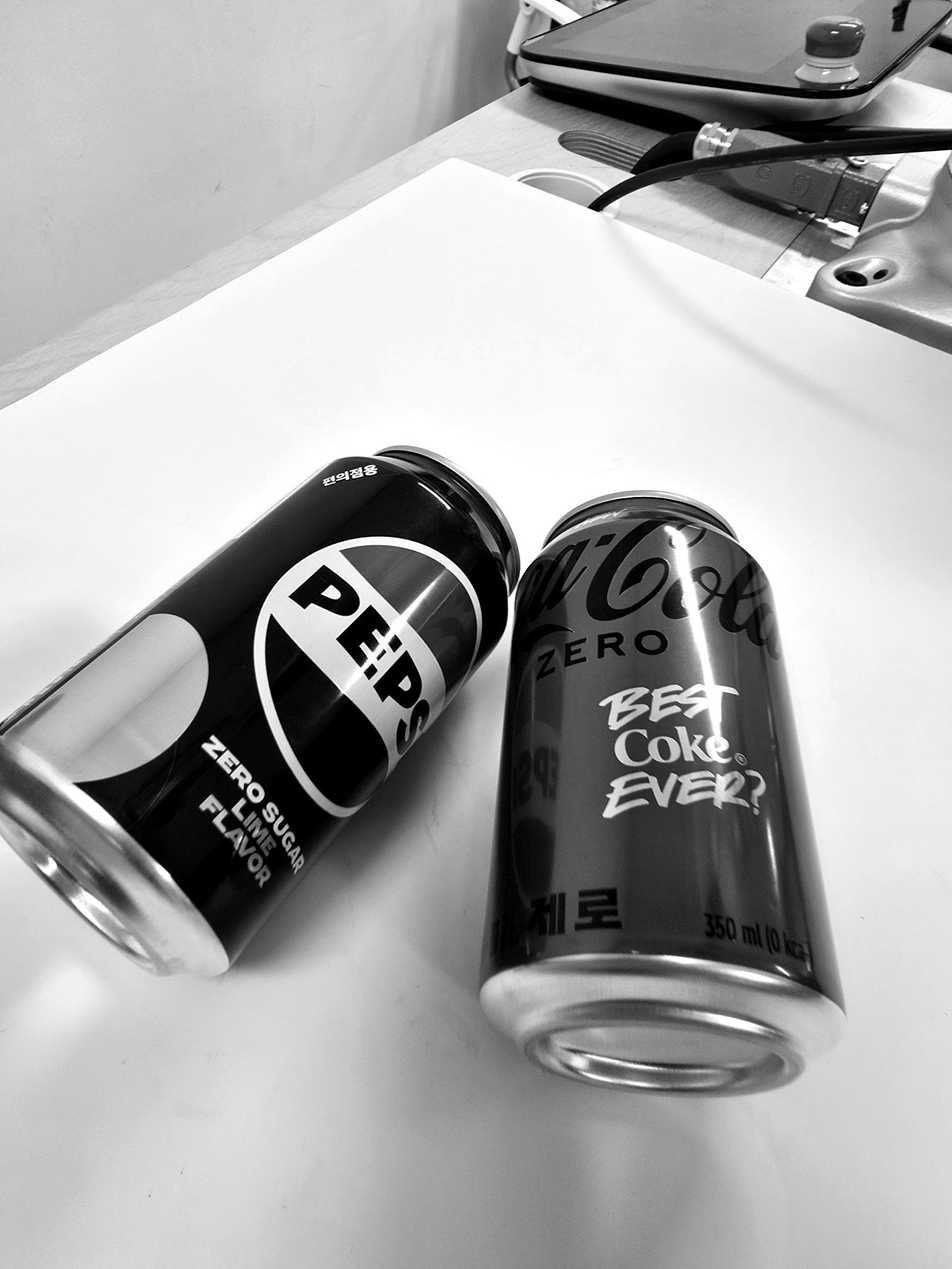can_coke_zero: (462, 492, 850, 1107)
can_pepsi_zero: (0, 450, 519, 991)
